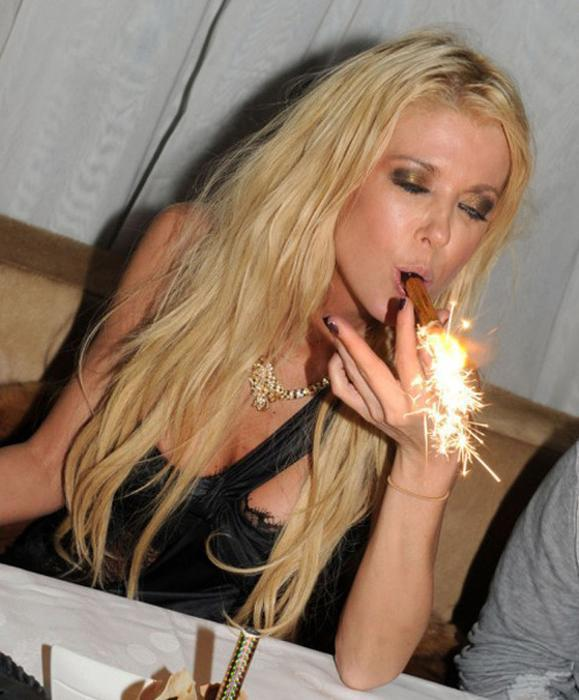Drunk: (349, 96, 500, 318)
